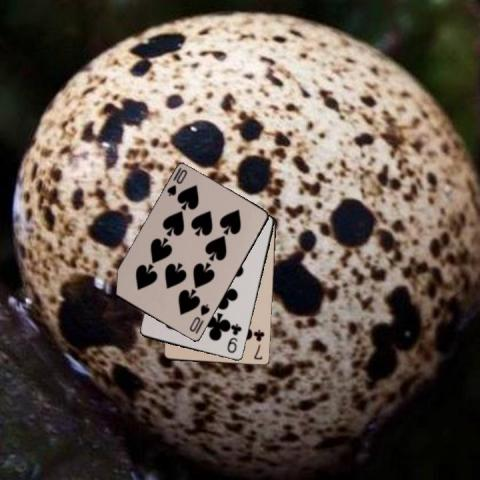10s: (164, 167, 189, 198), (187, 302, 211, 334)
7c: (251, 328, 266, 361)
9c: (225, 320, 243, 354)
